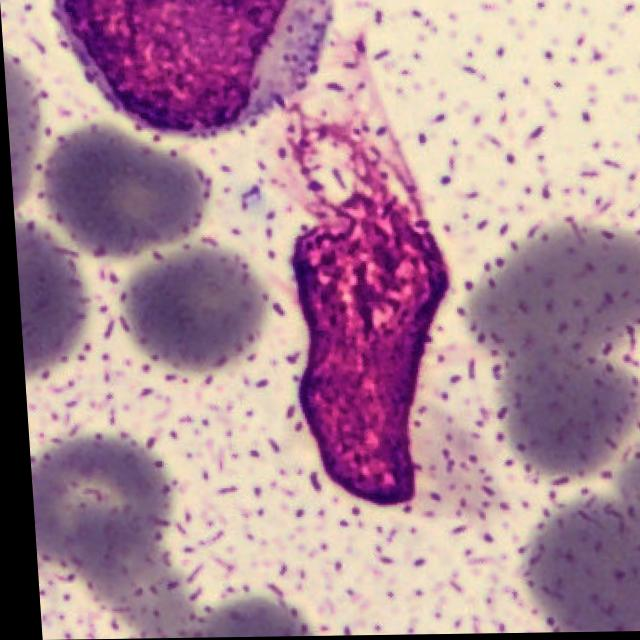Artefato: (287, 42, 446, 509)
